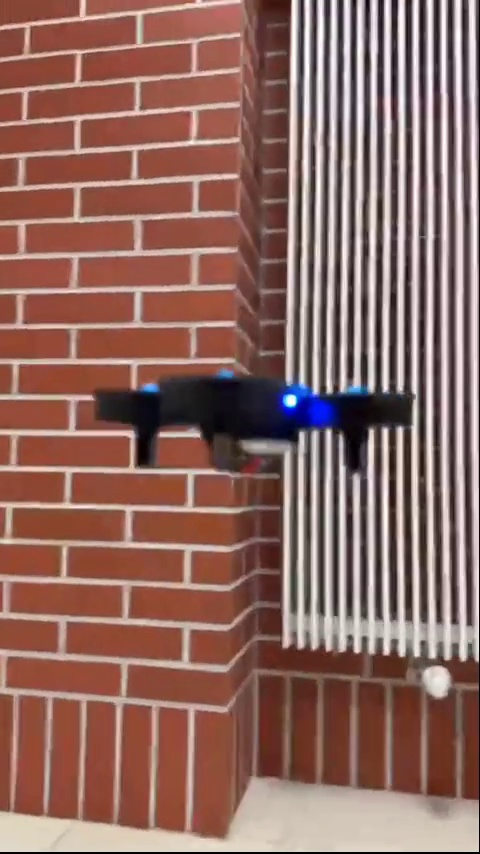drone: (86, 372, 420, 484)
